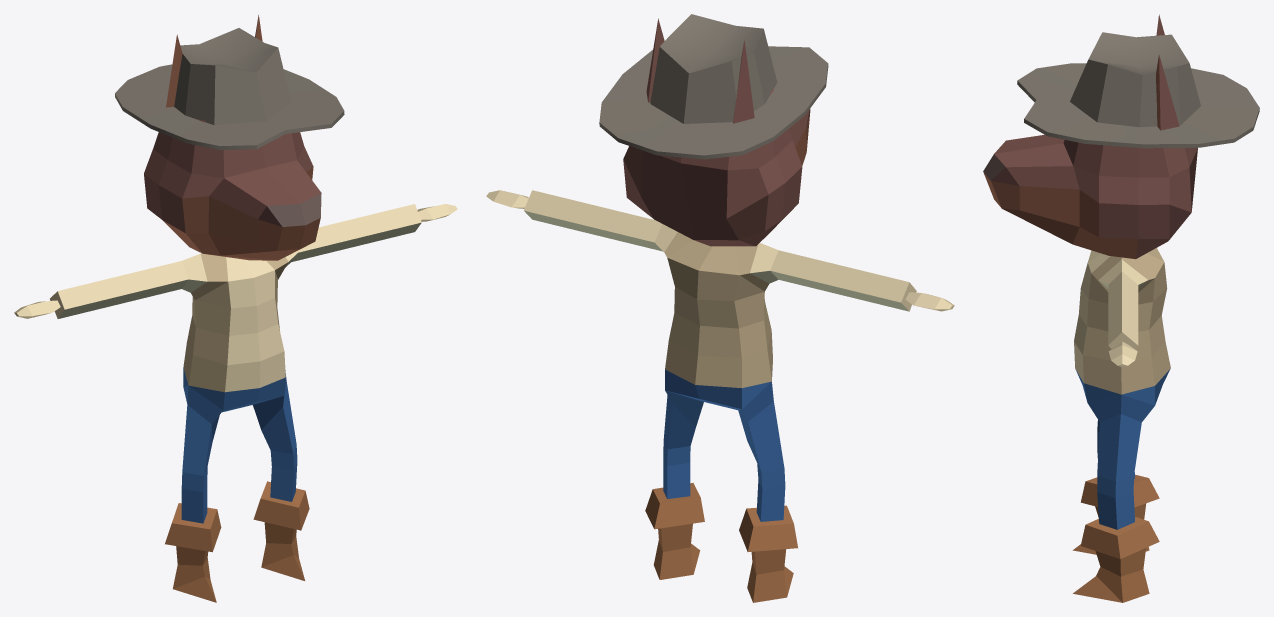
File: Doggie_1.FBX
3 renders of one model, left to right at view 1: azimuth 30°, elevation 25°; view 2: azimuth 150°, elevation 25°; view 3: azimuth 270°, elevation 25°, orthographic. The views are drawn at different scales.
Visible parts, largest first — view 1: Body; view 2: Body; view 3: Body.
Part boxes in pixels (left/top/right/bottom): Body: left=14, top=15, right=457, bottom=602; Body: left=486, top=14, right=954, bottom=602; Body: left=983, top=14, right=1259, bottom=602.
Size of the model in its own units: 85.5 by 99.91 by 46.58.
